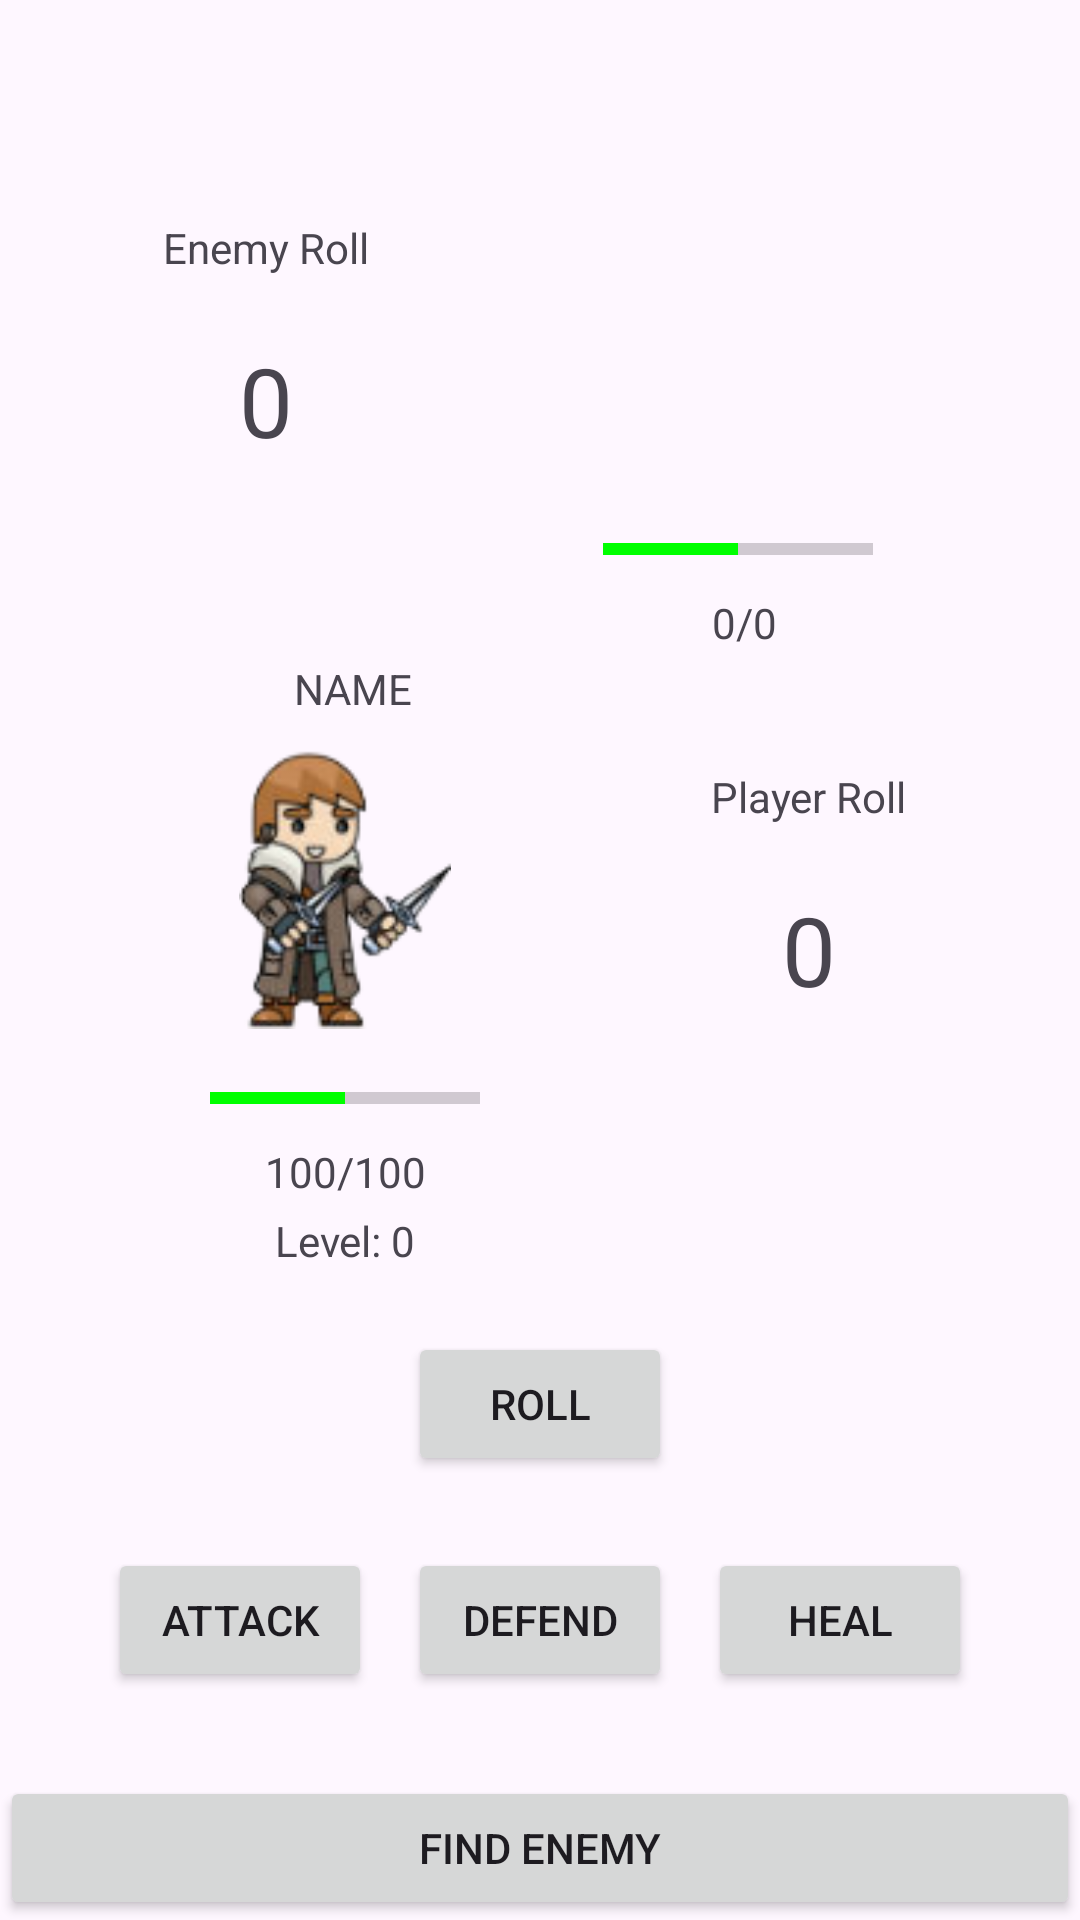

Icons on this 1080px x 1920px Android screen, each with its box as (x1, y1, x2, y2):
player: (239, 752, 451, 1029)
